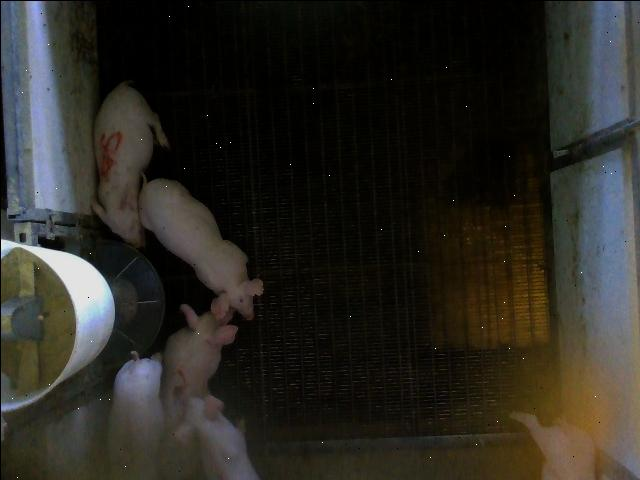pig-1: (108, 352, 164, 478)
pig-3: (159, 302, 236, 429), (160, 430, 205, 479)
pig-5: (91, 80, 169, 247)
